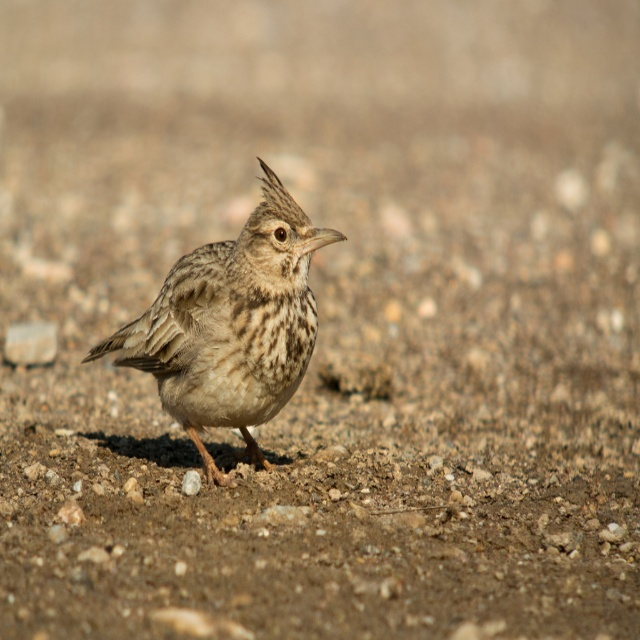Sparrow: (81, 156, 347, 489)
